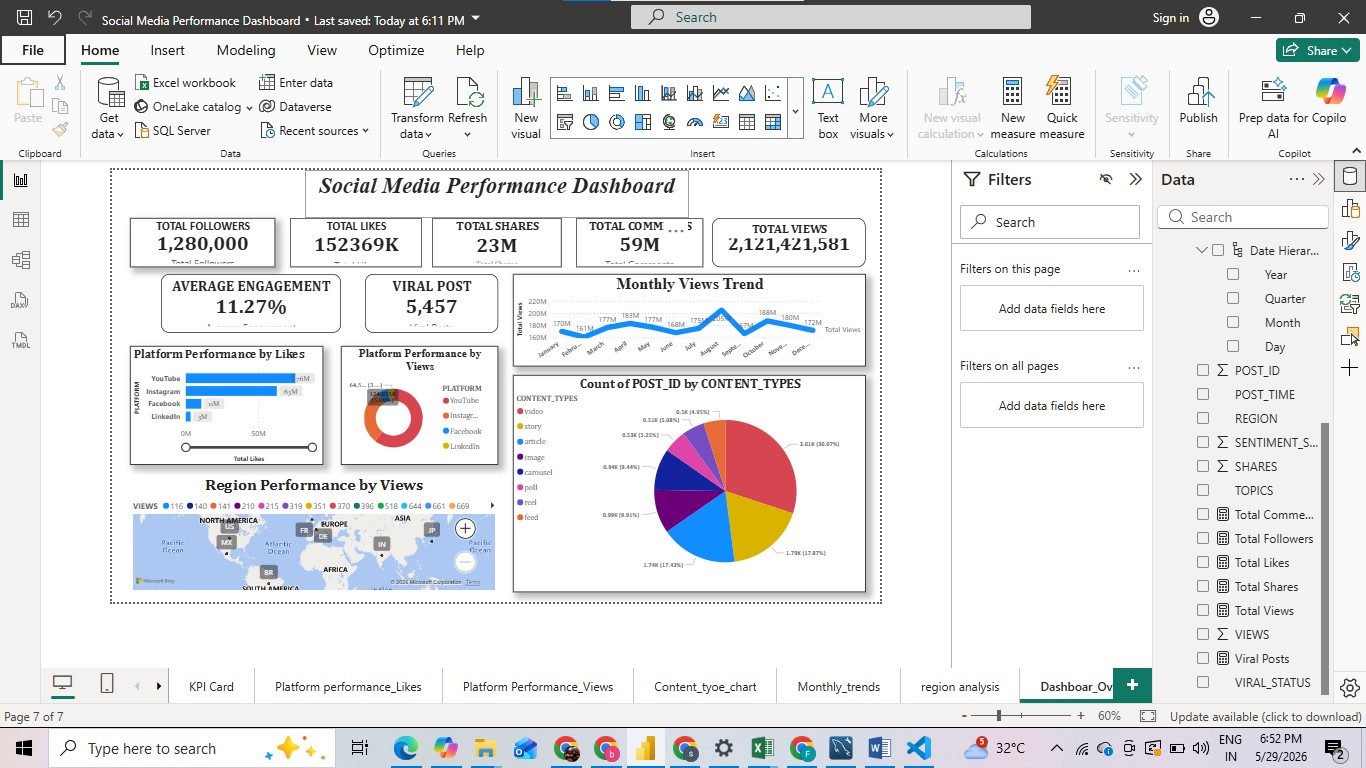

Layout of this report page (visuals, bound fields, positions):
{"tool":"powerbi","page":{"name":"Dashboar_Overview","canvas":[1280,720],"ordinal":6},"visuals":[{"type":"card","title":"TOTAL FOLLOWERS","fields":{"Values":["social_media_performance.Total Followers"]},"box":[30,80,242,82],"z":0},{"type":"card","title":"TOTAL LIKES","fields":{"Values":["social_media_performance.Total Likes"]},"box":[296,80,220,82],"z":1000},{"type":"card","title":"TOTAL SHARES","fields":{"Values":["social_media_performance.Total Shares"]},"box":[534,80,216,82],"z":2000},{"type":"card","title":"TOTAL COMMENTS","fields":{"Values":["social_media_performance.Total Comments"]},"box":[774,80,212,82],"z":3000},{"type":"card","title":"TOTAL VIEWS","fields":{"Values":["social_media_performance.Total Views"]},"box":[1000,80,256,82],"z":4000},{"type":"card","title":"VIRAL POST","fields":{"Values":["social_media_performance.Viral Posts"]},"box":[422,174,222,98],"z":5000},{"type":"card","title":"AVERAGE ENGAGEMENT","fields":{"Values":["social_media_performance.Average Engagement"]},"box":[82,174,300,98],"z":6000},{"type":"clusteredBarChart","title":"Platform Performance by Likes","fields":{"Category":["social_media_performance.PLATFORM"],"Y":["social_media_performance.Total Likes"]},"box":[30,294,322,198],"z":7000},{"type":"donutChart","title":"Platform Performance by Views","fields":{"Category":["social_media_performance.PLATFORM"],"Y":["social_media_performance.Total Views"]},"box":[381.7,293.3,261.7,198.3],"z":8000},{"type":"pieChart","fields":{"Category":["social_media_performance.CONTENT_TYPES"],"Y":["CountNonNull(social_media_performance.POST_ID)"]},"box":[668,342,588,362],"z":9000},{"type":"textbox","box":[322,0,640,80],"z":10000},{"type":"lineChart","title":"Monthly Views Trend","fields":{"Category":["social_media_performance.POST_DATETIME.Variation.Date Hierarchy.Month"],"Y":["social_media_performance.Total Views"]},"box":[668,174,588,154],"z":10001},{"type":"map","title":"Region Performance by Views","fields":{"Category":["social_media_performance.REGION"],"Series":["social_media_performance.VIEWS"]},"box":[30,508,614,196],"z":10002}]}

Visuals, with their boxes on the page's 1280x720 design canvas (x1, y1, x2, y2). These are canvas units, not pixel positions in the 1366x768 screenshot, which may show the page scaled, cropped or inside an application window:
"TOTAL FOLLOWERS" card: bbox(30, 80, 272, 162)
"TOTAL LIKES" card: bbox(296, 80, 516, 162)
"TOTAL SHARES" card: bbox(534, 80, 750, 162)
"TOTAL COMMENTS" card: bbox(774, 80, 986, 162)
"TOTAL VIEWS" card: bbox(1000, 80, 1256, 162)
"VIRAL POST" card: bbox(422, 174, 644, 272)
"AVERAGE ENGAGEMENT" card: bbox(82, 174, 382, 272)
"Platform Performance by Likes" clusteredBarChart: bbox(30, 294, 352, 492)
"Platform Performance by Views" donutChart: bbox(382, 293, 643, 492)
pieChart - social_media_performance.CONTENT_TYPES x CountNonNull(social_media_performance.POST_ID): bbox(668, 342, 1256, 704)
textbox: bbox(322, 0, 962, 80)
"Monthly Views Trend" lineChart: bbox(668, 174, 1256, 328)
"Region Performance by Views" map: bbox(30, 508, 644, 704)
